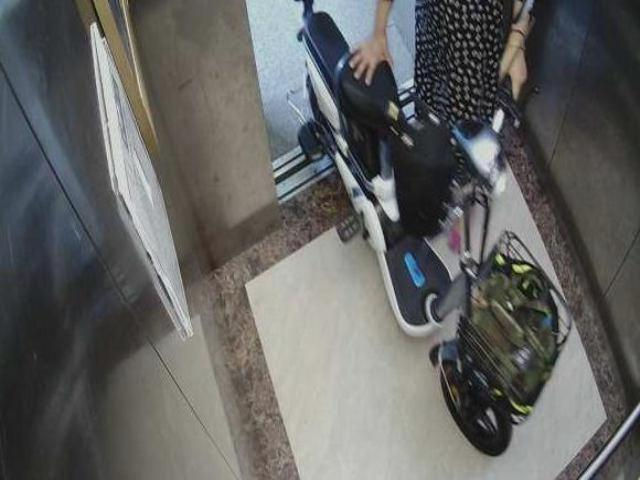emotor: (284, 21, 555, 434)
